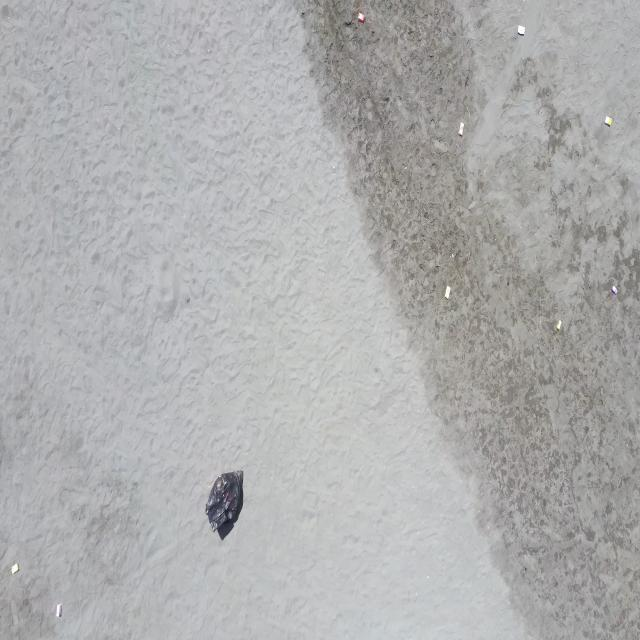retort-pouch: (458, 121, 466, 137), (610, 282, 618, 298), (517, 24, 526, 38), (604, 114, 612, 128), (11, 561, 19, 575), (445, 284, 451, 302), (56, 602, 62, 619), (357, 10, 364, 24), (556, 320, 563, 334)
